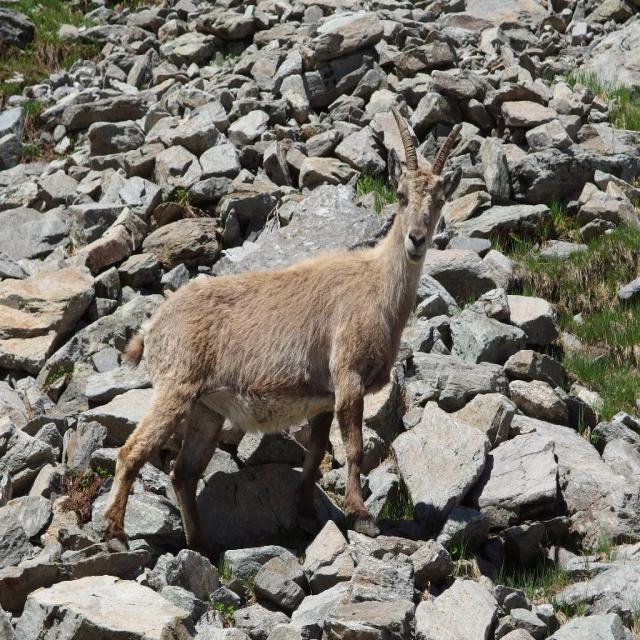Goat: (98, 145, 457, 574)
